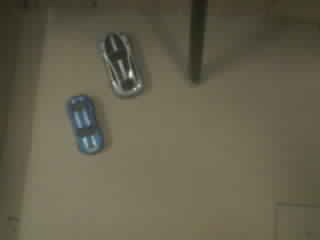Car: (98, 35, 143, 96), (67, 95, 103, 152)
